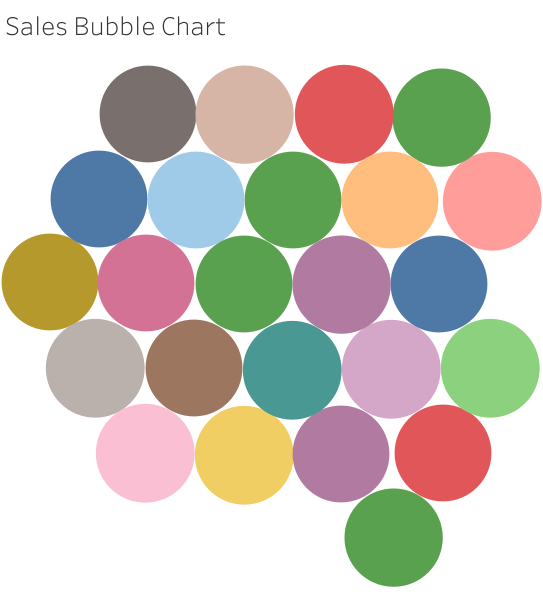

This screenshot's page, from the dashboard's own definition file:
{"tool":"tableau","page":{"name":"Dashboard 1","canvas":[1000,800],"ordinal":0},"visuals":[{"type":"worksheet","title":"Sheet 1","mark":"Bar","rows":["Sales"],"cols":["Customer Name"],"box":[15,11,928,291]},{"type":"worksheet","title":"Sheet 3","mark":"Circle","box":[18,307,492,260]},{"type":"legend","title":"Sheet 3","param":"[federated.0v9ot2j1bkkgqm15xdo1z191qs0r].[sum:Sales:qk]","box":[536,332,160,188]},{"type":"worksheet","title":"Sheet 2","mark":"Automatic","rows":["Sales"],"cols":["Order Date"],"box":[552,335,333,188]}]}

Visuals, with their boxes on the page's 1000x800 design canvas (x1, y1, x2, y2). These are canvas units, not pixel positions in the 543x596 screenshot, which may show the page scaled, cropped or inside an application window:
"Sheet 1" worksheet (Bar marks): bbox=(15, 11, 943, 302)
"Sheet 3" worksheet (Circle marks): bbox=(18, 307, 510, 567)
"Sheet 3" legend: bbox=(536, 332, 696, 520)
"Sheet 2" worksheet: bbox=(552, 335, 885, 523)
